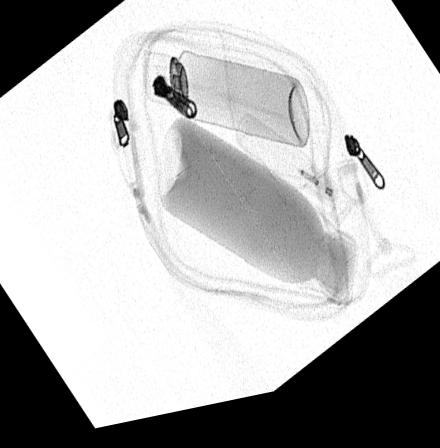Sprayer: (143, 56, 308, 160)
